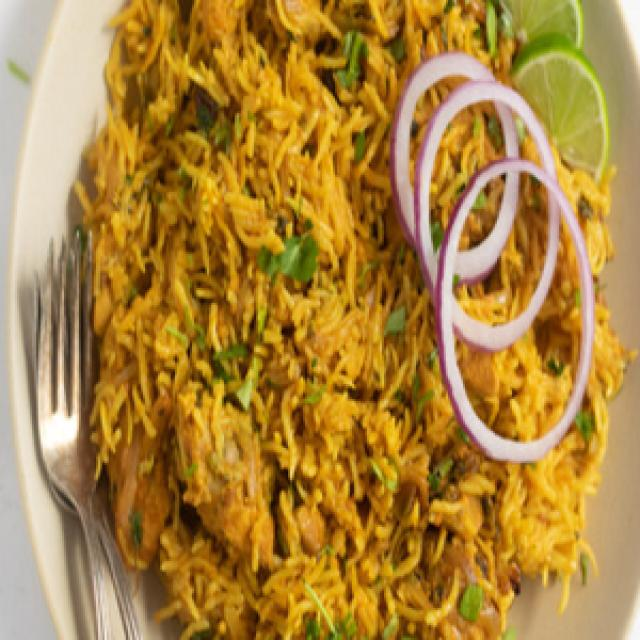chicken biriyani: (62, 0, 628, 640)
